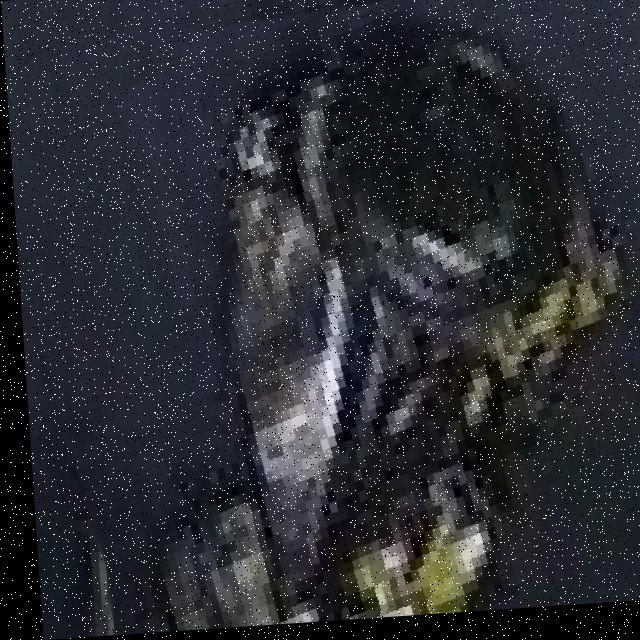can: (95, 0, 640, 636)
